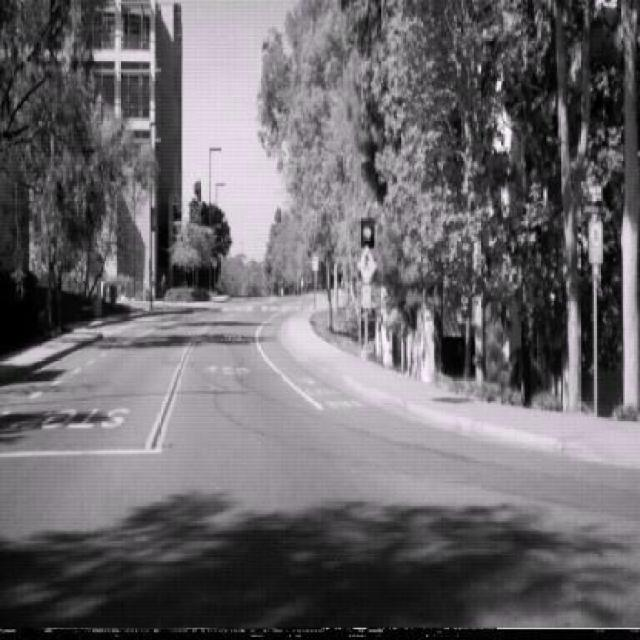pedestrianCrossing: (357, 243, 378, 286)
